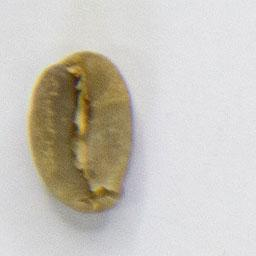longberry: (21, 47, 141, 217)
